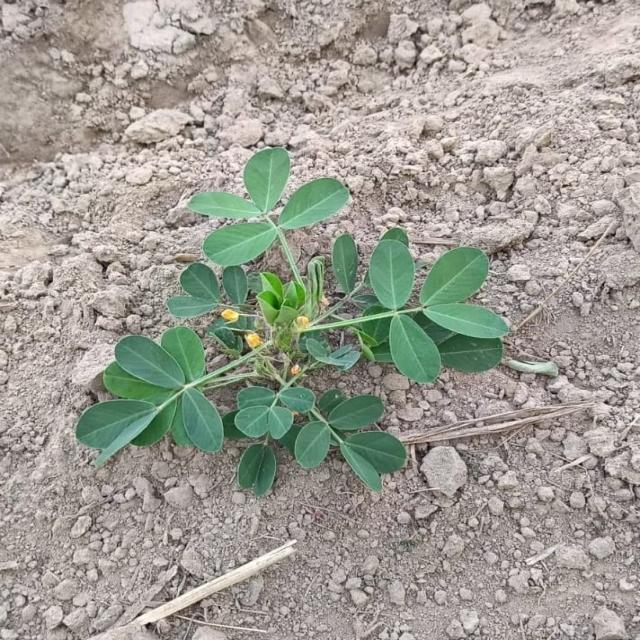plant: (75, 148, 510, 496)
